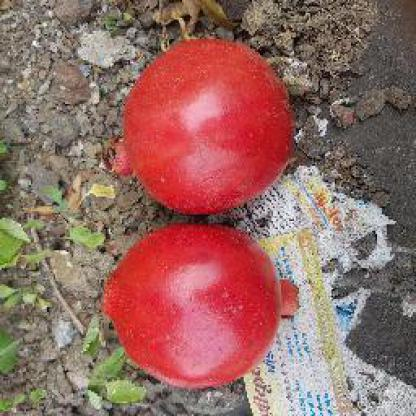pomegranate: (112, 39, 293, 215), (104, 224, 291, 387)
